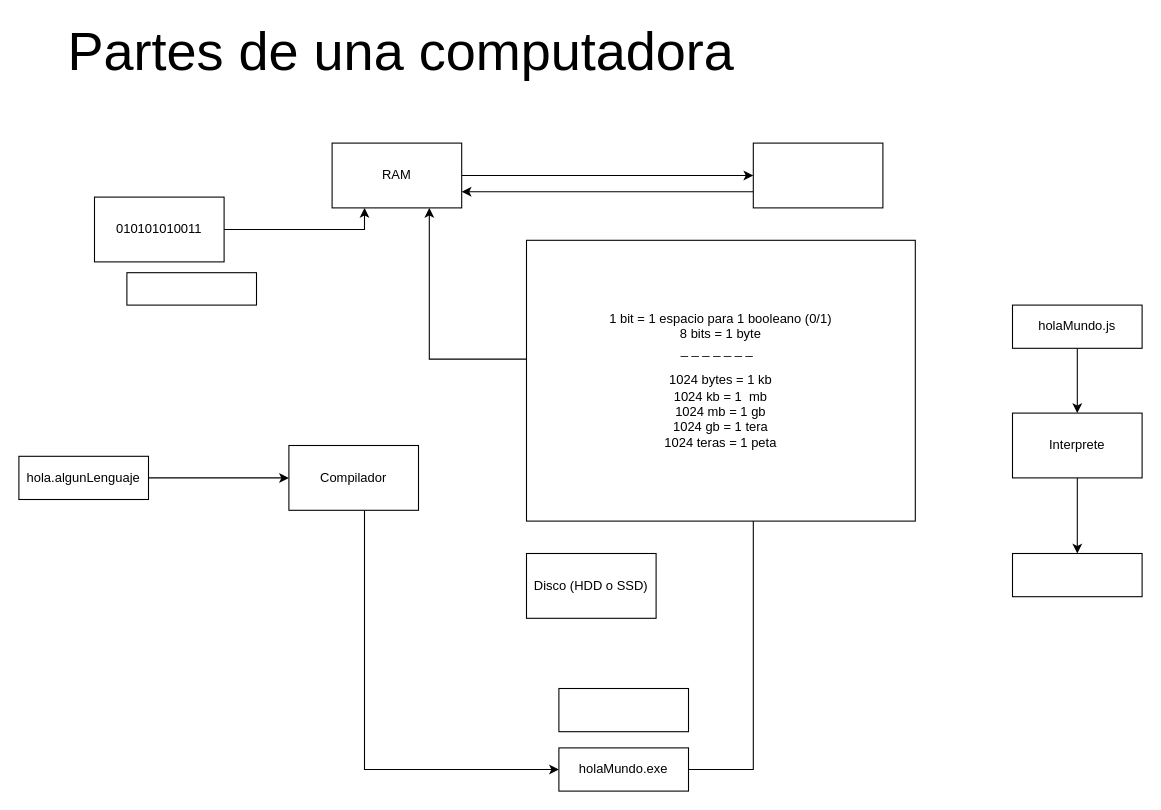
Image size: 1161x810. Some labels were removed from this diagram. Here are the shapes that lost their labels. From the top down, the centre of each, then its label:
At point (817, 175): "CPU".
At point (191, 288): "SCOPE / alcance".
At point (1076, 574): "Muestra algo".
At point (623, 709): "holaMundo.php".
